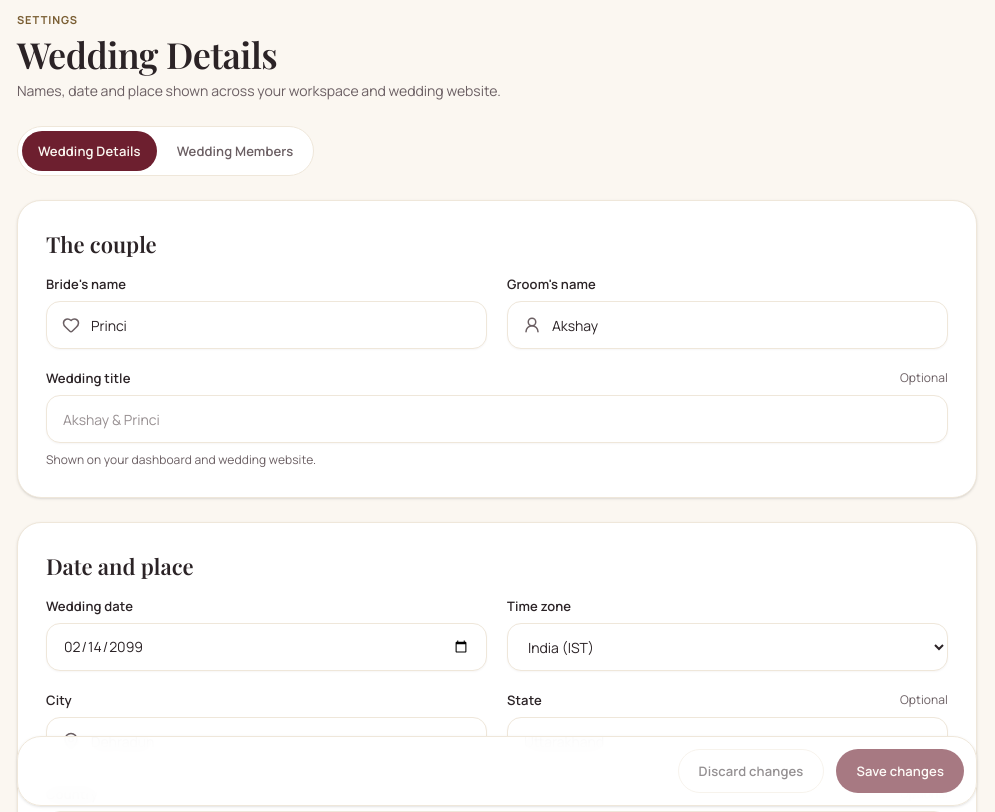
Test: <WeddingDetailsScreen /> › says when changes were not saved
In the field labelled "Wedding title": point(497, 419) [46,395,948,443], type "Our big day"
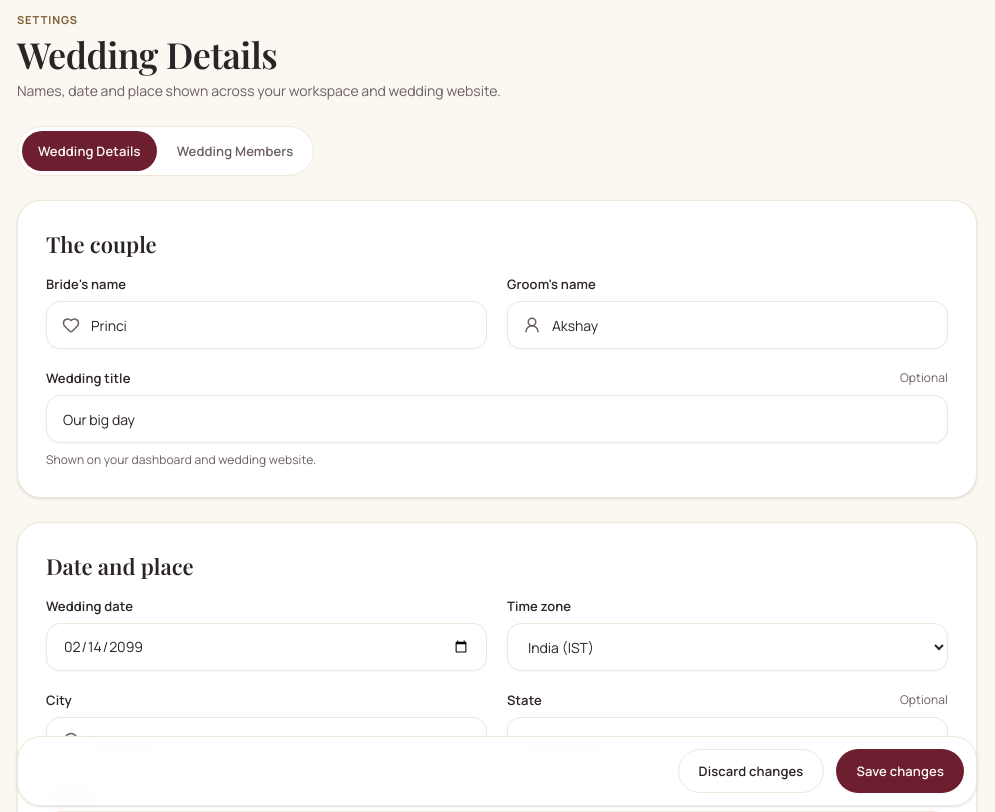
Click the button "Save changes": point(900, 771) [836,749,964,793]
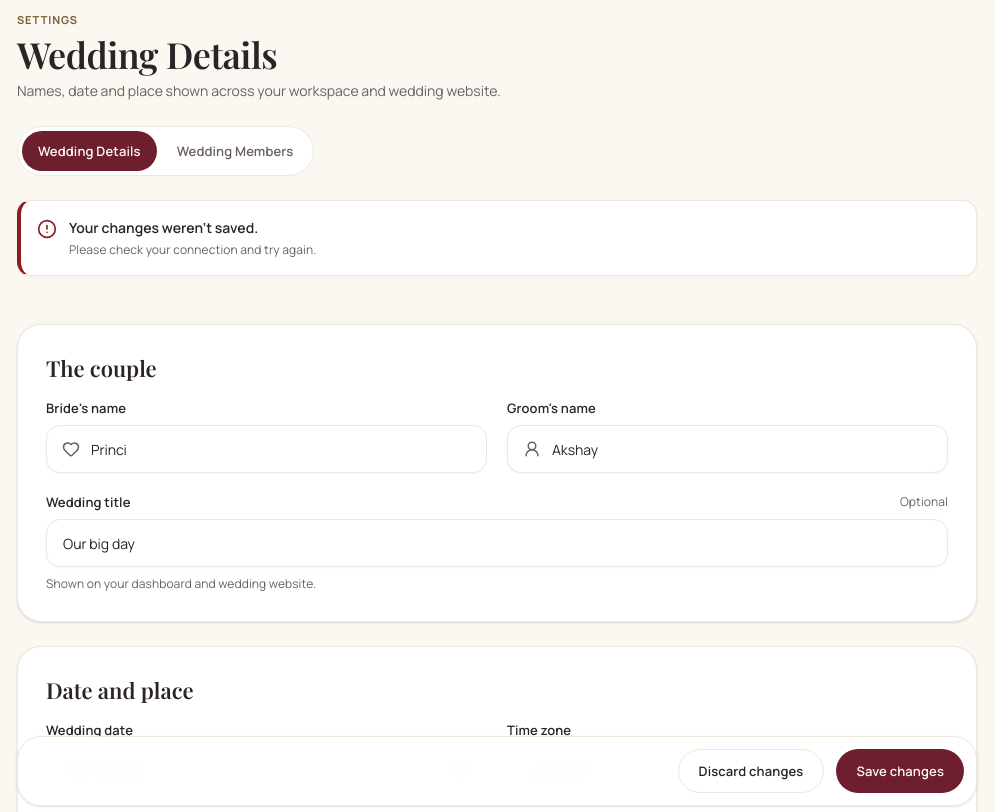
expect the text "Your changes weren't saved." is shown: met, box [69,218,258,237]
